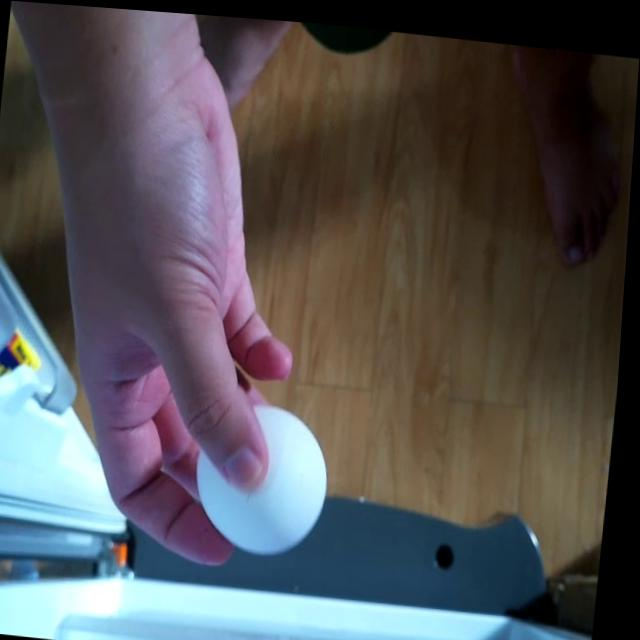egg: (192, 398, 338, 553)
